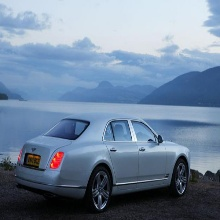no damage: (13, 111, 192, 213)
